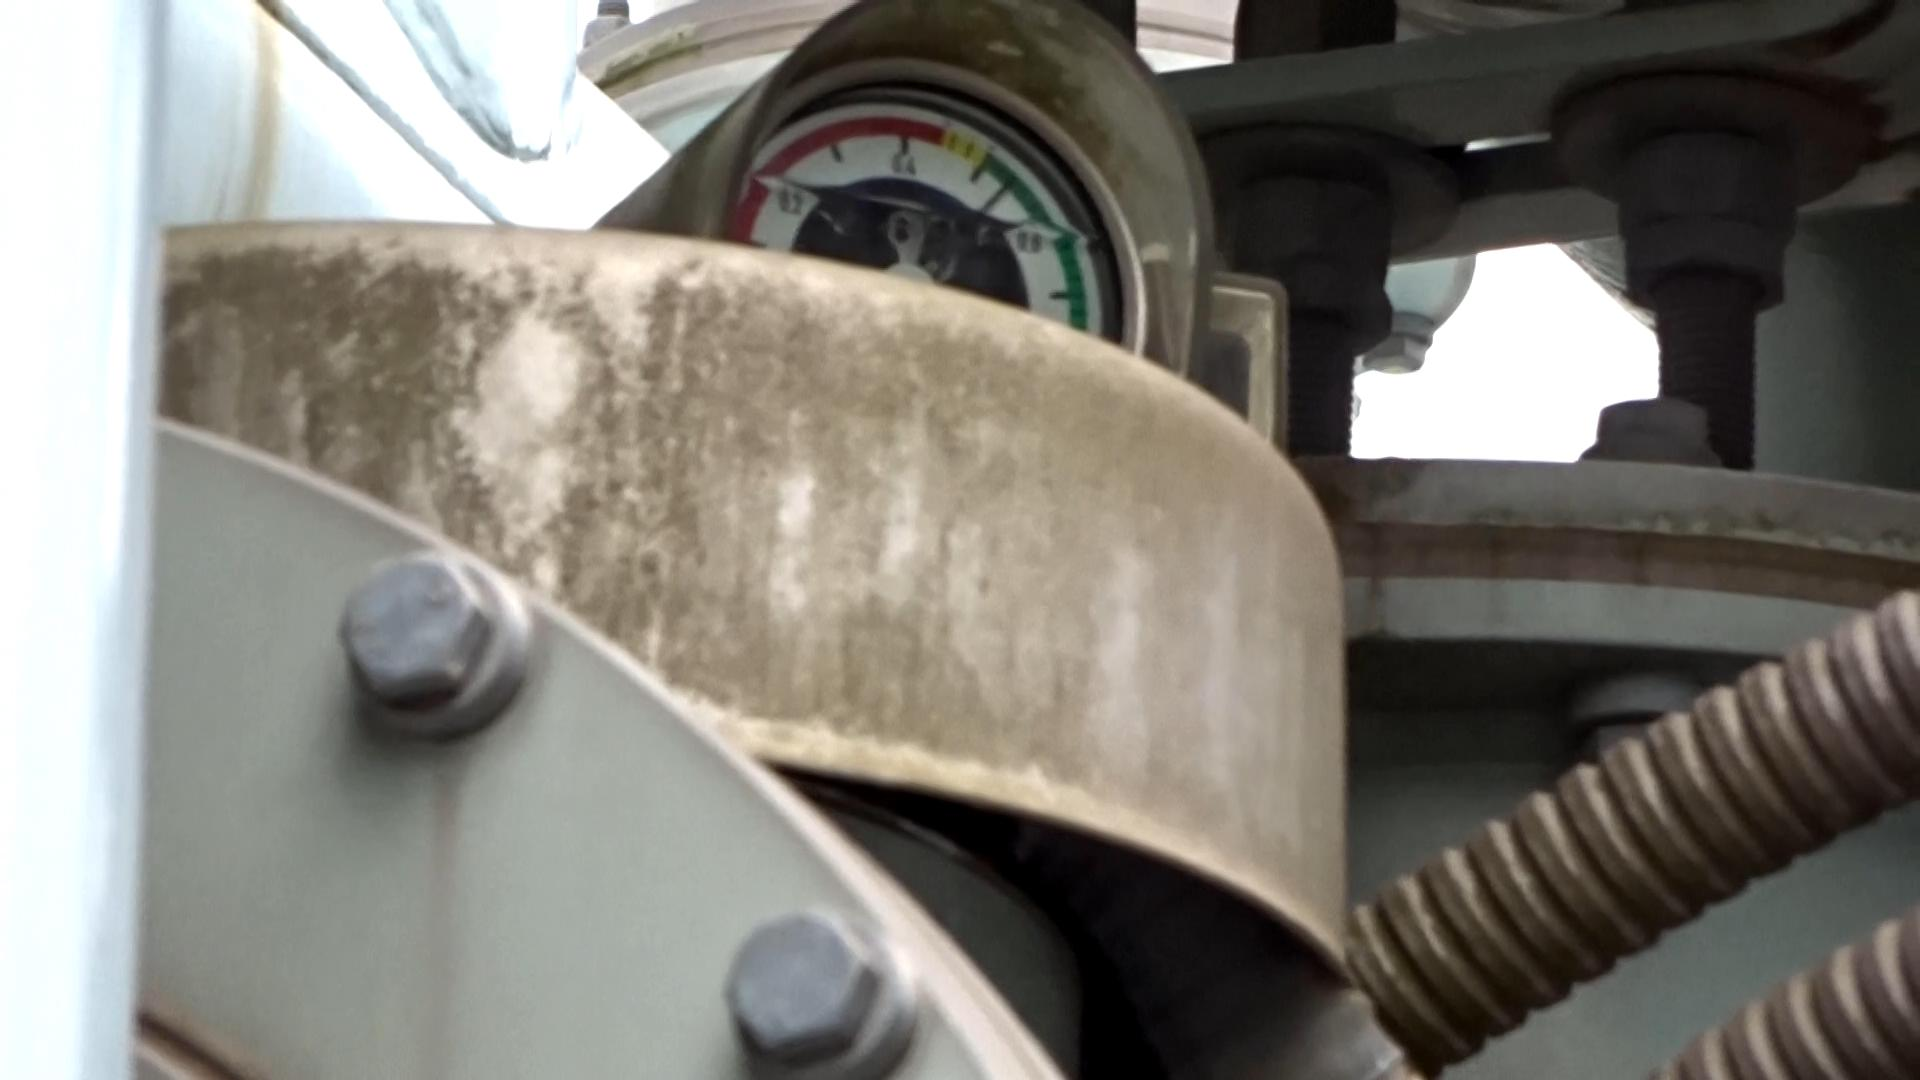instrument: (719, 84, 1118, 345)
